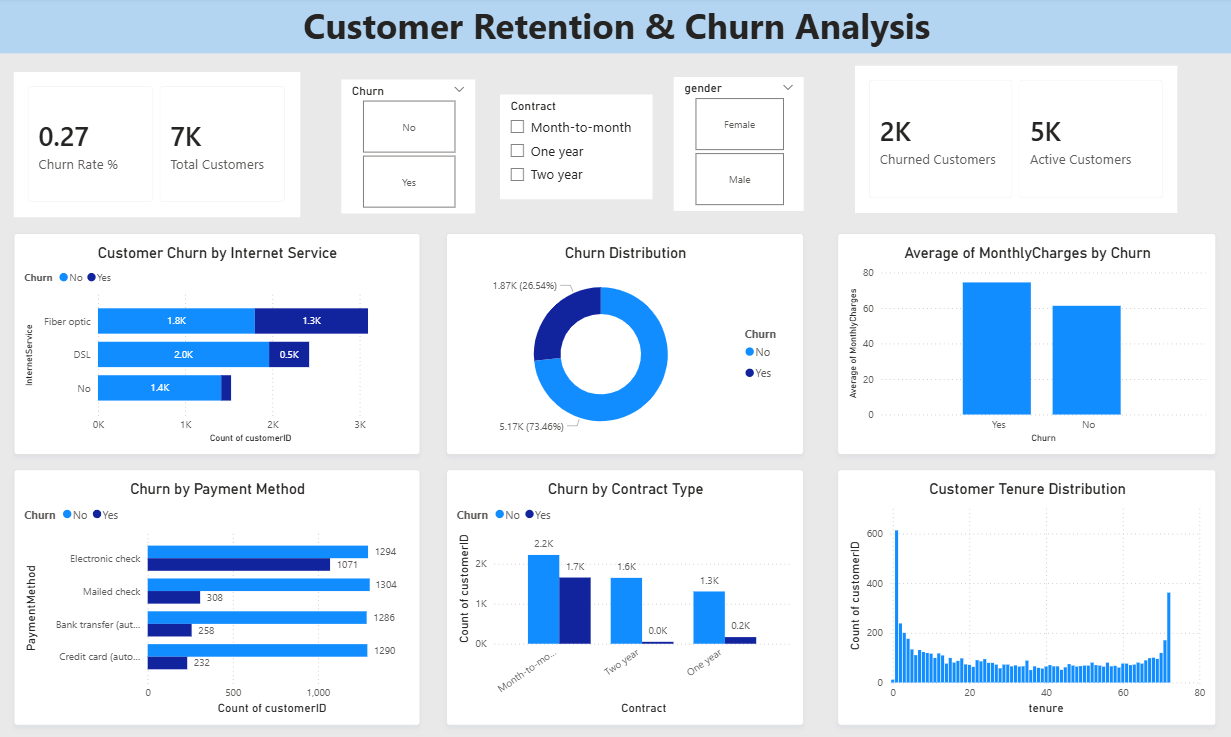

The dashboard page shown, as its layout file describes it:
{"tool":"powerbi","page":{"name":"Page 1","canvas":[1500,900],"ordinal":0},"visuals":[{"type":"cardVisual","fields":{"Data":["WA_Fn-UseC_-Telco-Customer-Churn.Churned Customers","WA_Fn-UseC_-Telco-Customer-Churn.Active Customers"]},"box":[1037.5,82.9,389.1,177.9],"z":0},{"type":"textbox","box":[0,0,1500.5,67.9],"z":1000},{"type":"slicer","fields":{"Values":["WA_Fn-UseC_-Telco-Customer-Churn.Churn"]},"box":[417.7,99.5,161.4,161.4],"z":2000},{"type":"donutChart","title":"Churn Distribution","fields":{"Y":["Count(WA_Fn-UseC_-Telco-Customer-Churn.customerID)"],"Category":["WA_Fn-UseC_-Telco-Customer-Churn.Churn"]},"box":[544.4,285,431.3,266.9],"z":3000},{"type":"clusteredColumnChart","title":"Churn by Contract Type","fields":{"Category":["WA_Fn-UseC_-Telco-Customer-Churn.Contract"],"Y":["Count(WA_Fn-UseC_-Telco-Customer-Churn.customerID)"],"Series":["WA_Fn-UseC_-Telco-Customer-Churn.Churn"]},"box":[544.4,570,431.3,309.2],"z":4000},{"type":"barChart","title":"Customer Churn by Internet Service","fields":{"Y":["CountNonNull(WA_Fn-UseC_-Telco-Customer-Churn.customerID)"],"Series":["WA_Fn-UseC_-Telco-Customer-Churn.Churn"],"Category":["WA_Fn-UseC_-Telco-Customer-Churn.InternetService"]},"box":[22.6,285,490.1,266.9],"z":5000},{"type":"clusteredBarChart","title":"Churn by Payment Method","fields":{"Category":["WA_Fn-UseC_-Telco-Customer-Churn.PaymentMethod"],"Series":["WA_Fn-UseC_-Telco-Customer-Churn.Churn"],"Y":["CountNonNull(WA_Fn-UseC_-Telco-Customer-Churn.customerID)"]},"box":[22.6,570,490.1,309.2],"z":6000},{"type":"columnChart","title":"Customer Tenure Distribution","fields":{"Category":["WA_Fn-UseC_-Telco-Customer-Churn.tenure"],"Y":["CountNonNull(WA_Fn-UseC_-Telco-Customer-Churn.customerID)"]},"box":[1016.4,570,456.9,309.2],"z":7000},{"type":"clusteredColumnChart","fields":{"Y":["Avg(WA_Fn-UseC_-Telco-Customer-Churn.MonthlyCharges)"],"Category":["WA_Fn-UseC_-Telco-Customer-Churn.Churn"]},"box":[1016.4,285,456.9,266.9],"z":7001},{"type":"slicer","fields":{"Values":["WA_Fn-UseC_-Telco-Customer-Churn.Contract"]},"box":[609.3,117.6,184,126.7],"z":7002},{"type":"slicer","fields":{"Values":["WA_Fn-UseC_-Telco-Customer-Churn.gender"]},"box":[818.9,96.5,156.8,161.4],"z":7003},{"type":"cardVisual","fields":{"Data":["WA_Fn-UseC_-Telco-Customer-Churn.Churn Rate","WA_Fn-UseC_-Telco-Customer-Churn.Total Customers"]},"box":[22.6,90.5,345.3,174.9],"z":7005}]}

Visuals, with their boxes in screenshot pixels (x1, y1, x2, y2), scaled from the page's 1500x900 canvas onto the 1231x737 screenshot:
cardVisual - WA_Fn-UseC_-Telco-Customer-Churn.Churned Customers x WA_Fn-UseC_-Telco-Customer-Churn.Active Customers: bbox=[851, 68, 1171, 214]
textbox: bbox=[0, 0, 1230, 56]
slicer - WA_Fn-UseC_-Telco-Customer-Churn.Churn: bbox=[343, 81, 475, 214]
"Churn Distribution" donutChart: bbox=[447, 233, 801, 452]
"Churn by Contract Type" clusteredColumnChart: bbox=[447, 467, 801, 720]
"Customer Churn by Internet Service" barChart: bbox=[19, 233, 421, 452]
"Churn by Payment Method" clusteredBarChart: bbox=[19, 467, 421, 720]
"Customer Tenure Distribution" columnChart: bbox=[834, 467, 1209, 720]
clusteredColumnChart - Avg(WA_Fn-UseC_-Telco-Customer-Churn.MonthlyCharges) x WA_Fn-UseC_-Telco-Customer-Churn.Churn: bbox=[834, 233, 1209, 452]
slicer - WA_Fn-UseC_-Telco-Customer-Churn.Contract: bbox=[500, 96, 651, 200]
slicer - WA_Fn-UseC_-Telco-Customer-Churn.gender: bbox=[672, 79, 801, 211]
cardVisual - WA_Fn-UseC_-Telco-Customer-Churn.Churn Rate x WA_Fn-UseC_-Telco-Customer-Churn.Total Customers: bbox=[19, 74, 302, 217]
